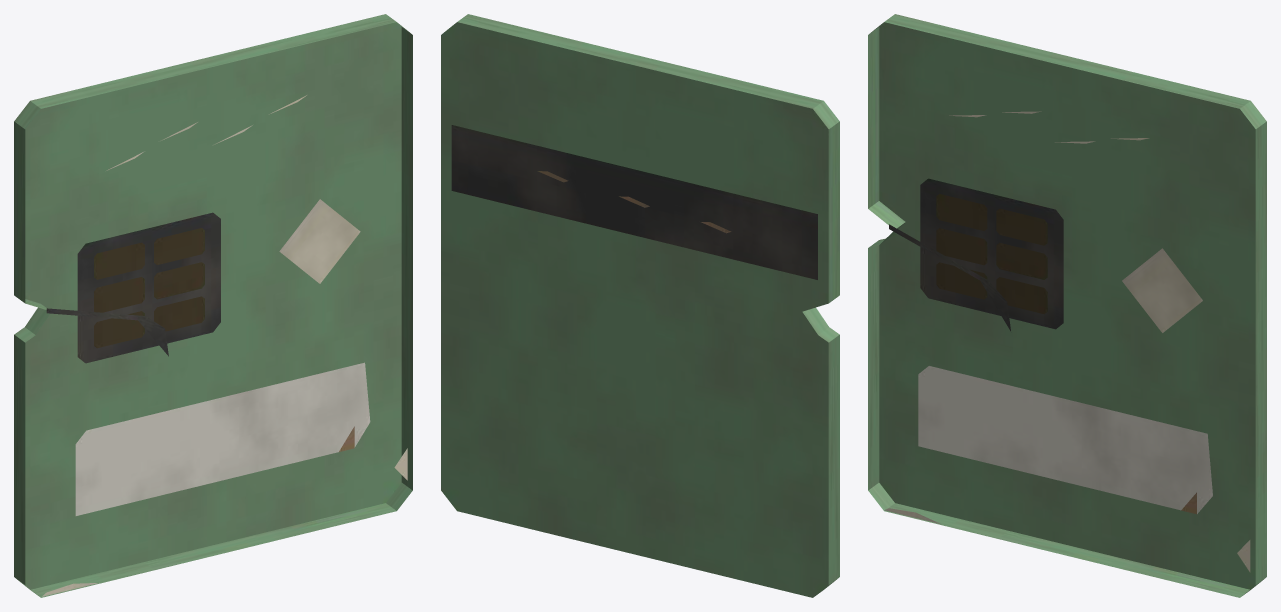
Rendered from P28_colored_key_cards_v3.glb.
The picture shows the model from 3 angles, left to right: view 1: azimuth 30°, elevation 25°; view 2: azimuth 150°, elevation 25°; view 3: azimuth 330°, elevation 25°; orthographic projection.
Visible parts, largest first — view 1: Key_card_body; view 2: Key_card_body; view 3: Key_card_body.
Boxes of the visible parts, left/top/right/bottom form: Key_card_body: left=14, top=14, right=412, bottom=597; Key_card_body: left=441, top=14, right=839, bottom=597; Key_card_body: left=868, top=14, right=1266, bottom=597.
Bounding box in the file's own units: 0.083 × 0.1 × 0.00432.
Materials: 6 (6 with a texture image).
